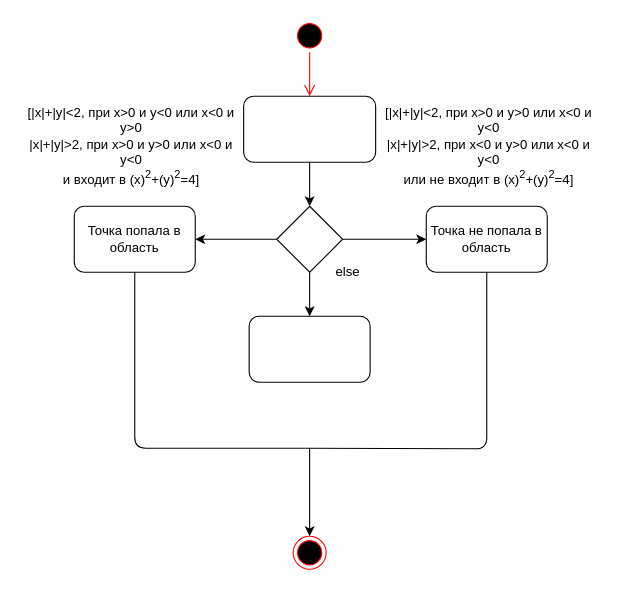
Some shapes in this 620 by 589 pixel diagram are drawn without their labels. The shapes that lost their labels are listed below. From the top down, each one's centre as x and y in pixels, then its label:
At (309,128): "Ввод X,Y".
At (309,348): "Точка на границе области".
